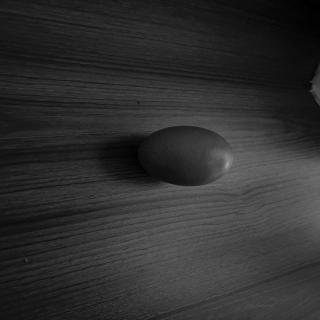Telur: (138, 122, 238, 195)
